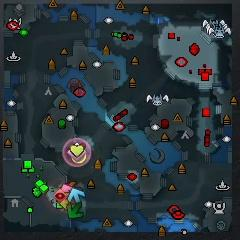Other: (63, 138, 92, 167), (54, 189, 67, 203)
x1: (60, 184, 73, 193)
x2: (60, 198, 72, 209)
x4: (66, 203, 83, 219)
x5: (69, 182, 83, 192)
